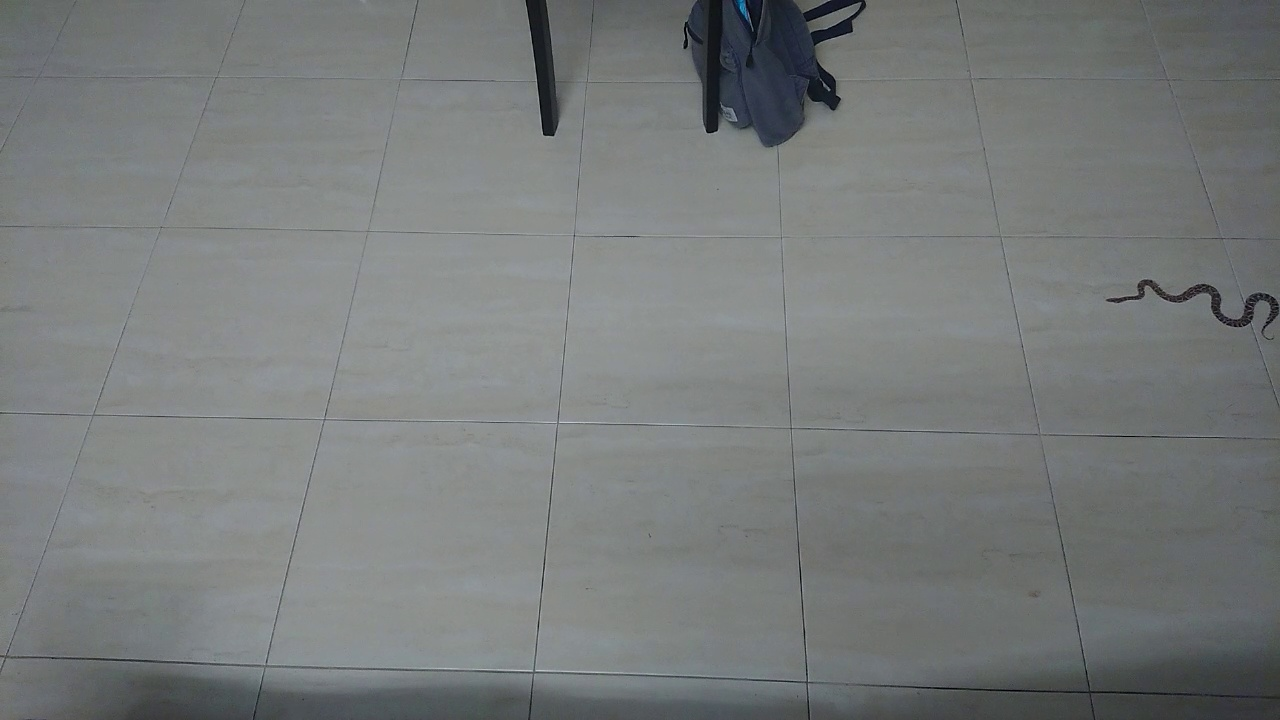snake: (1098, 266, 1280, 354)
